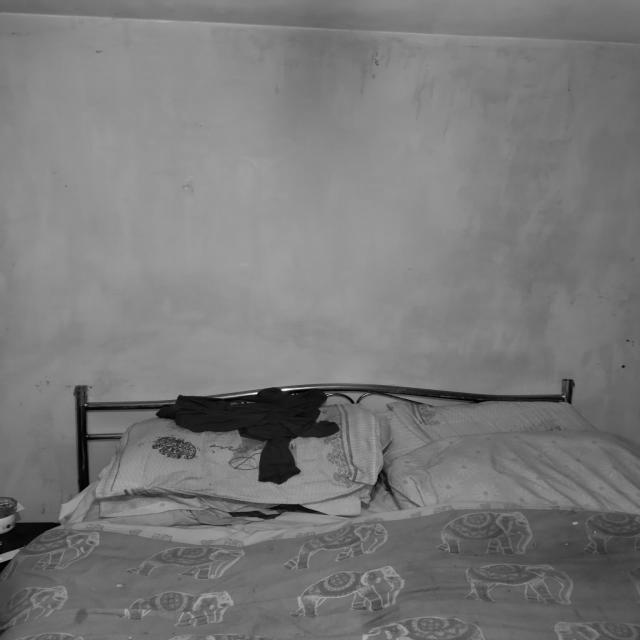stain marks: (0, 0, 640, 387), (0, 400, 87, 509)
